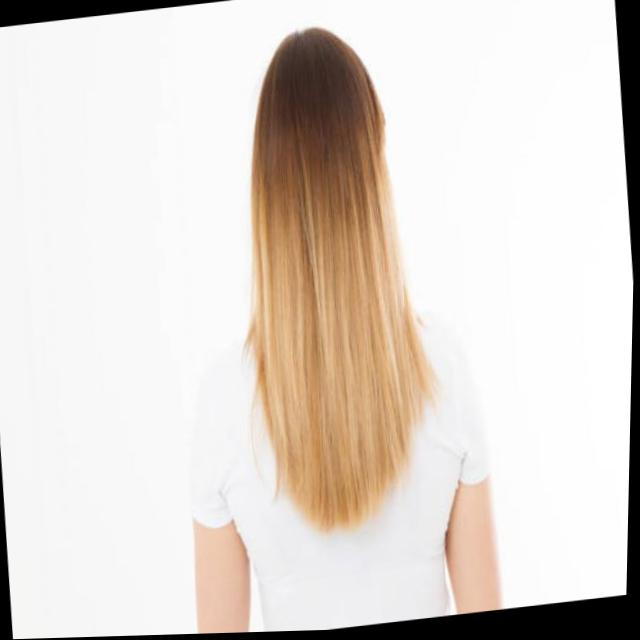no helmet: (229, 16, 411, 298)
